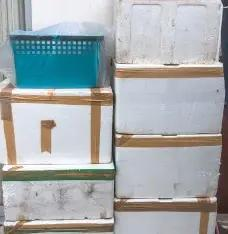ROAD_OBSTACLE: (0, 87, 114, 161), (105, 68, 223, 133), (107, 2, 221, 68), (105, 135, 223, 193), (0, 159, 114, 211)
